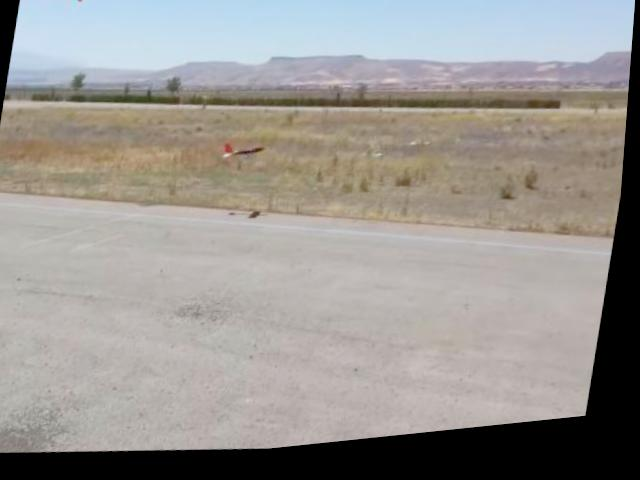uav: (222, 140, 271, 171)
